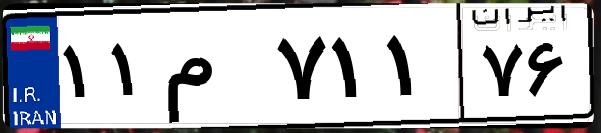1: (385, 28, 445, 110), (330, 28, 385, 110), (57, 26, 110, 100), (110, 28, 158, 98)
6: (525, 38, 570, 115)
7: (270, 28, 330, 110), (475, 38, 525, 113)
م: (158, 20, 270, 120)
